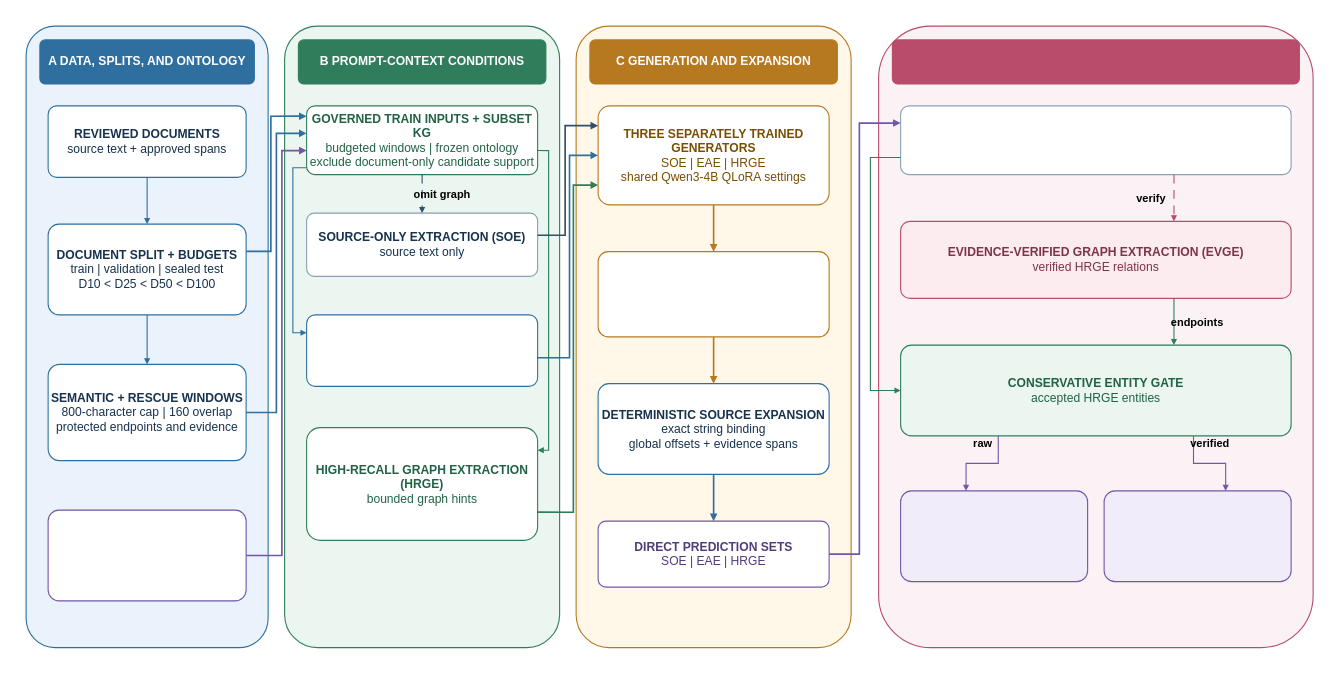
Some shapes in this 1339 by 679 pixel diagram are drawn without their labels. Here are the shapes that lost their labels. From the top down, the centre of each, then its label:
At point 1096,61: "D VERIFICATION AND FUSION".
At point 1095,140: "DIRECTLY EVALUATED SYSTEMS SOE | EAE | HRGE".
At point 713,294: "SHARED COMPACT TARGET entity text + type relation endpoints + type + status".
At point 422,350: "EXACT-ANCHOR EXTRACTION (EAE) exact graph hints".
At point 146,555: "FROZEN ONTOLOGY 15 entity types | 15 relations legal signatures | claim status".
At point 994,536: "CONSERVATIVE-FUSION EXTRACTION (CFE) gated entities + raw relations".
At point 1197,536: "PROVENANCE-GATED EXTRACTION (PGE) gated entities + verified relations".
